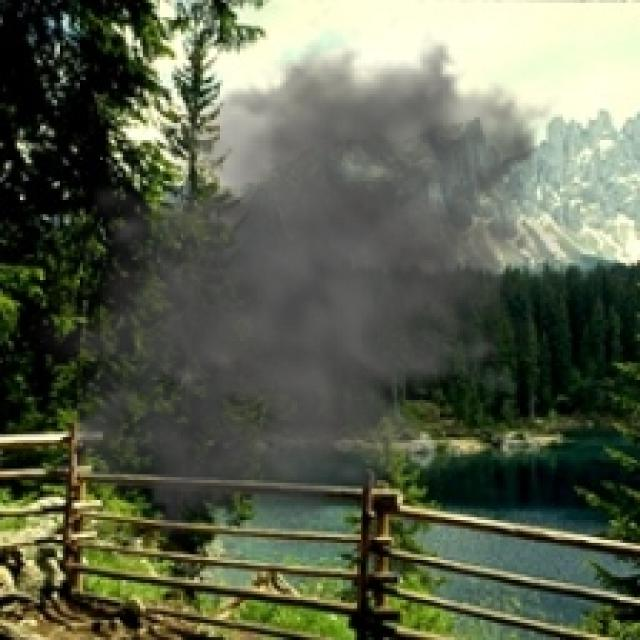smoke: (29, 6, 580, 574)
